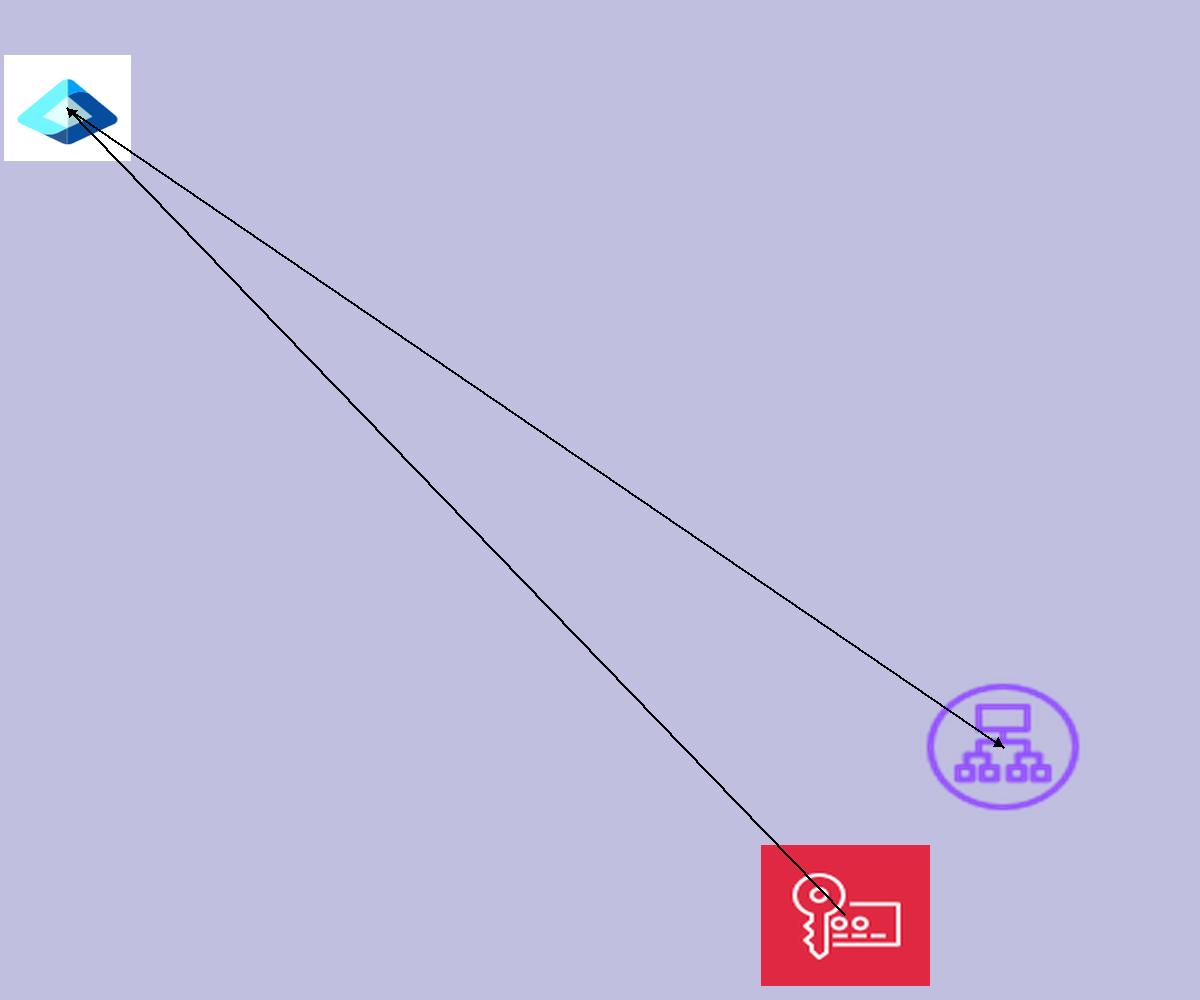AWS-Key-Management-Service: (761, 845, 930, 986)
AWS-Res_Elastic-Load-Balancing_Application-Load-Balancer: (920, 678, 1086, 816)
Azure_microsoft_entra: (4, 55, 131, 161)
